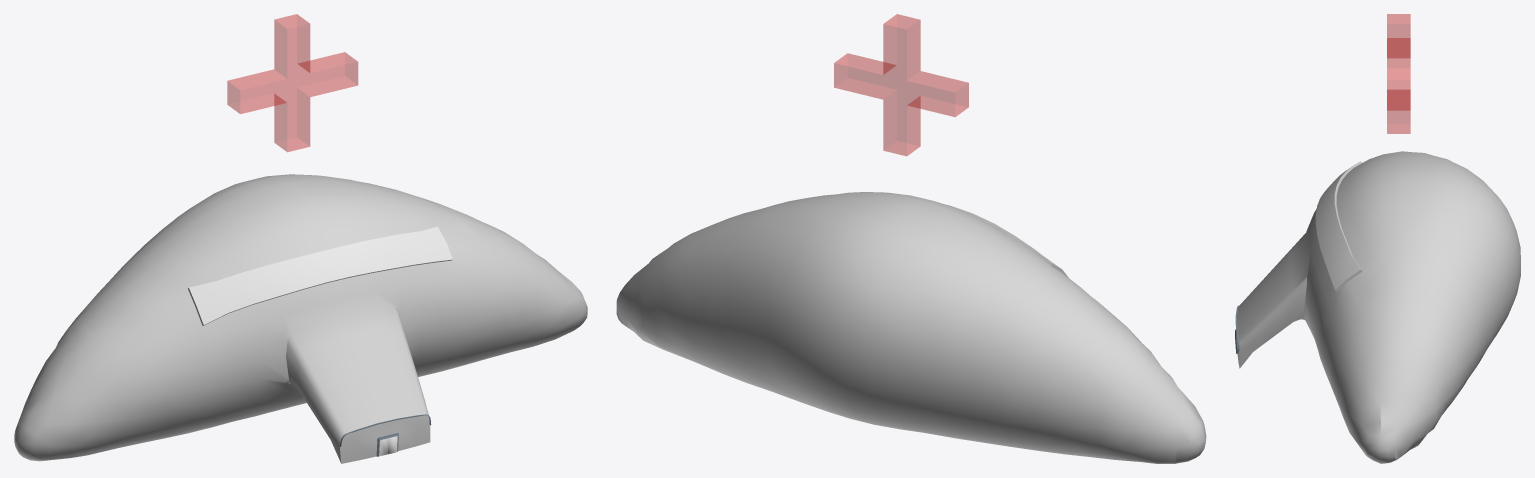
File: Hospital.fbx
3 views of the same model, side by side, from view 1: azimuth 30°, elevation 25°; view 2: azimuth 150°, elevation 25°; view 3: azimuth 270°, elevation 25° (orthographic). The views are drawn at different scales.
Visible parts, largest first — view 1: Sphere.008, Cube; view 2: Sphere.008, Cube; view 3: Sphere.008, Cube.
Boxes of the visible parts, x1,y1,x2,y2 form: Sphere.008: [14, 174, 587, 463]; Cube: [227, 14, 358, 152]; Sphere.008: [616, 192, 1206, 463]; Cube: [834, 14, 968, 156]; Sphere.008: [1235, 151, 1520, 463]; Cube: [1387, 14, 1410, 133].
Size of the model in its own units: 31199 by 19646 by 15218.
